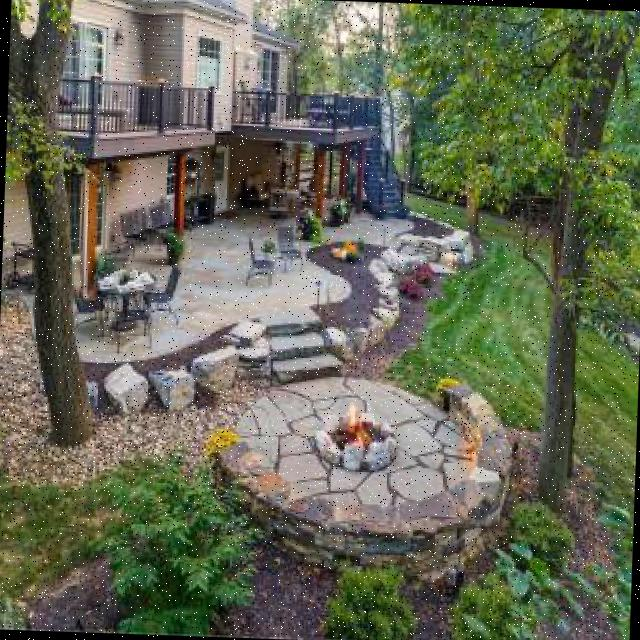fire: (344, 399, 373, 462), (330, 234, 364, 276)
